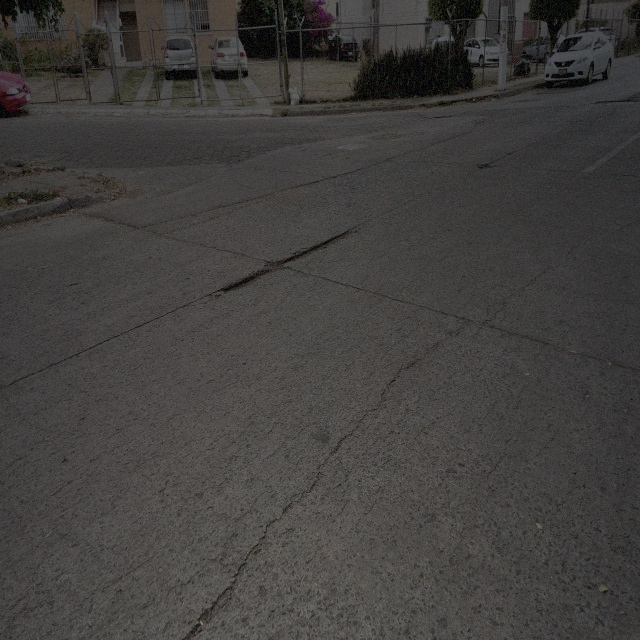pothole: (288, 228, 354, 264), (228, 262, 281, 294), (477, 160, 491, 170)
